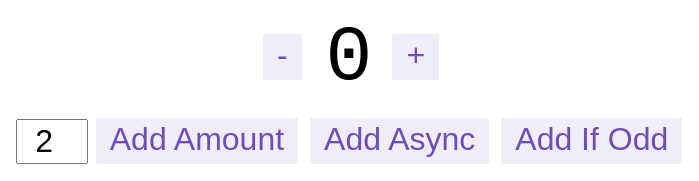
it: Increment value and Decrement value should work as expected
Click the button named "Increment value".
click(416, 57)  # box [392,34,439,80]
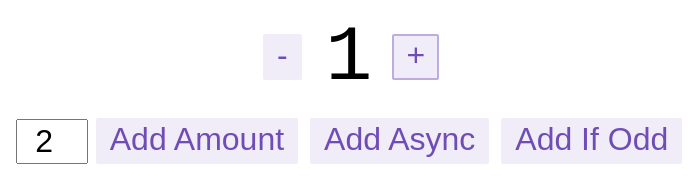
Result: the text named "Count" reads "1" at [326,14,372,102]
Click the button named "Decrement value".
click(282, 57)  # box [263,34,302,80]
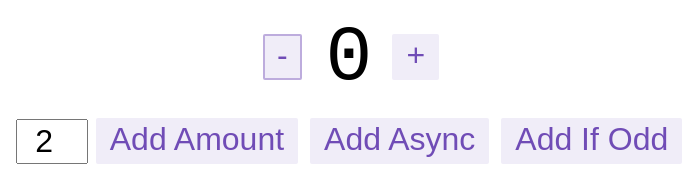
Result: the text named "Count" reads "0" at [326,14,372,102]
